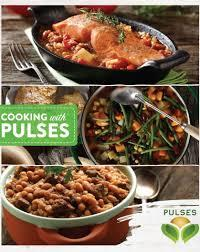Organic: (2, 9, 200, 243)
